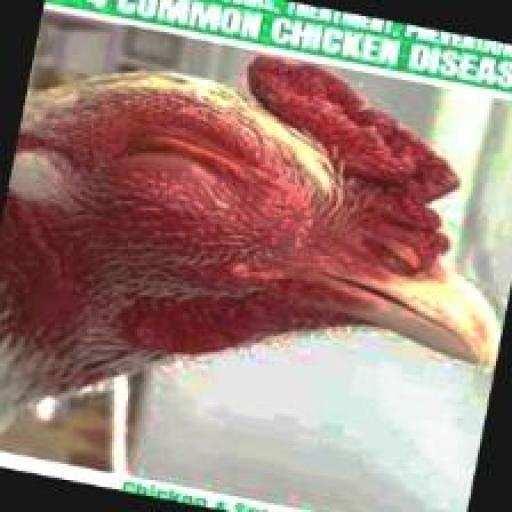disease: (101, 110, 259, 226)
